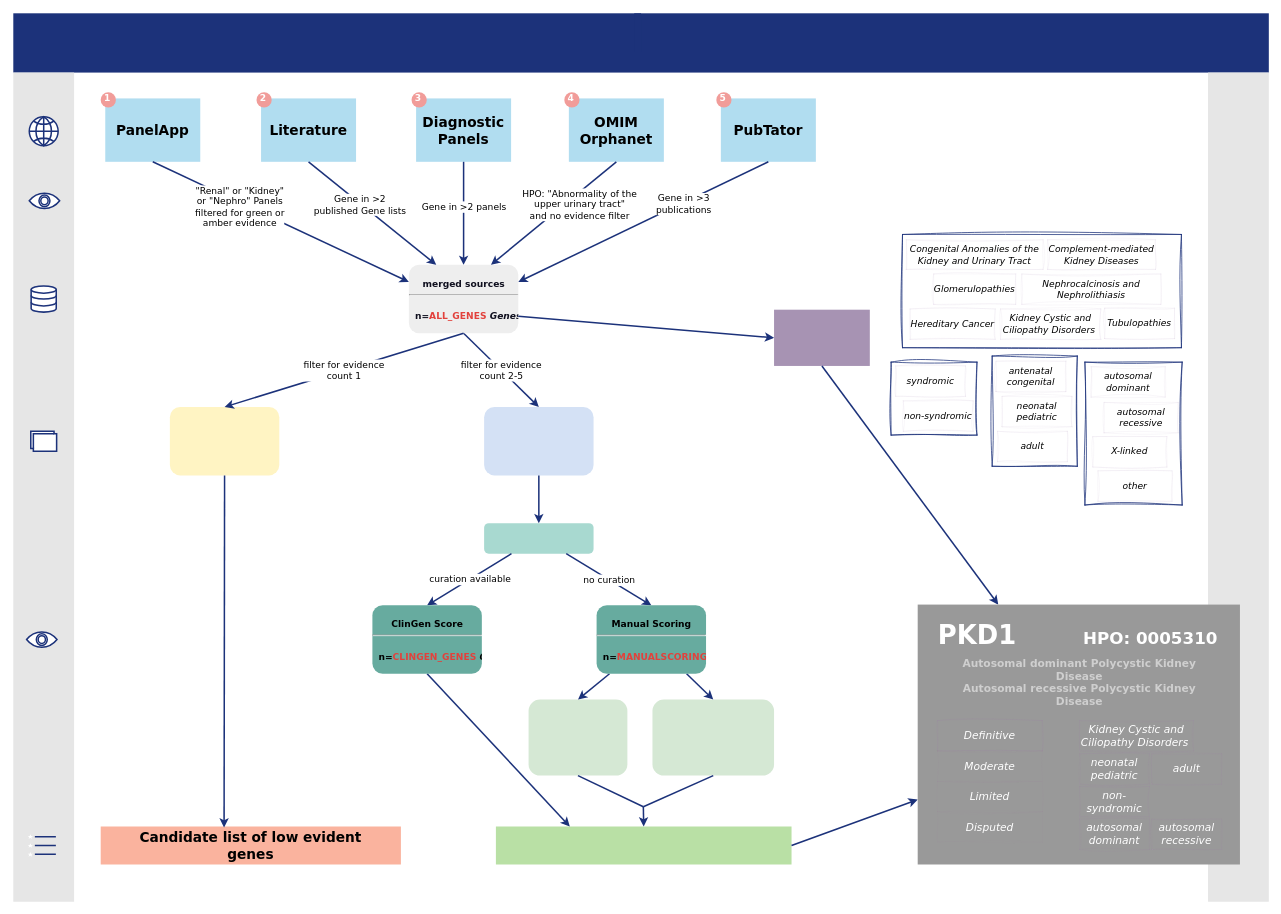
Image size: 1281x914. Some labels were removed from this diagram. Here are the shapes that lost their labels. From the top down, the centre of each, then its label:
the point at 640,42: Kidney Genetics
the point at 821,337: Grouping
the point at 224,441: low evidence n= LOWEVIDENCE_GENES Genes
the point at 538,441: high evidence n= HIGHEVIDENCE_GENES Genes
the point at 538,538: manual gene curation
the point at 577,737: Genetic Evidence 1. ClinVar/HGMD 2. gnomAD 3. OMIM/MONDO
the point at 713,737: Experimental Evidence 1. MGI 2. String-DB 3. GTEx/Descartes
the point at 643,845: Curated list of high evident genes
